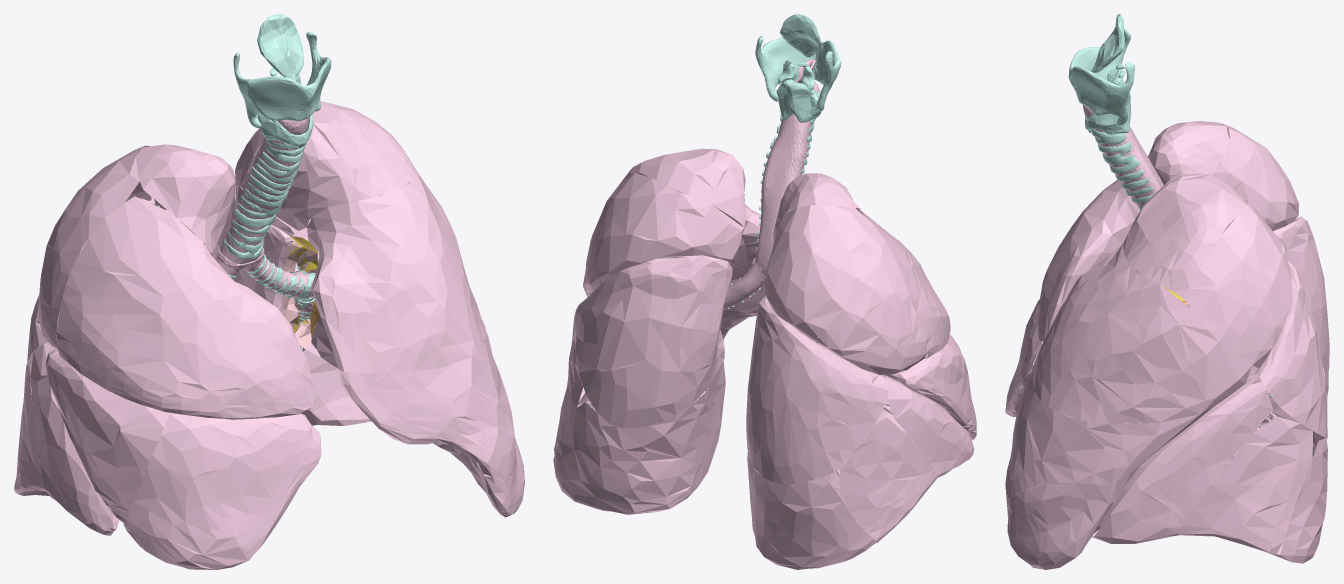
The model's file is organ-lungs.glb.
3 views of the same model, side by side, from view 1: azimuth 30°, elevation 25°; view 2: azimuth 150°, elevation 25°; view 3: azimuth 270°, elevation 25° (orthographic). The views are drawn at different scales.
Visible parts, largest first — view 1: right-anterior-bronchopulmonary-segment, left-anterior-bronchopulmonary-segment, right-medial-bronchopulmonary-segment, left-lingula-superior-bronchopulmonary-segment, left-apical-bronchopulmonary-segment, right-lateral-bronchopulmonary-segment, right-apical-bronchopulmonary-segment, right-posterior-bronchopulmonary-segment, right-anterior-basal-bronchopulmonary-segment, thyroid-cartilage, tracheal-cartilage, left-lingula-inferior-bronchopulmonary-segment (+10 smaller); view 2: left-superior-bronchopulmonary-segment, right-posterior-bronchopulmonary-segment, right-superior-bronchopulmonary-segment, left-posetrior-basal-bronchopulmonary-segment, left-posterior-bronchopulmonary-segment, right-posterior-basal-bronchopulmonary-segment, right-lateral-basal-bronchopulmonary-segment, left-apical-bronchopulmonary-segment, right-anterior-basal-bronchopulmonary-segment, trachea, right-lateral-bronchopulmonary-segment, right-anterior-bronchopulmonary-segment (+8 smaller); view 3: left-anterior-bronchopulmonary-segment, left-posterior-bronchopulmonary-segment, left-anterior-basal-bronchopulmonary-segment, left-lingula-superior-bronchopulmonary-segment, left-lateral-basal-bronchopulmonary-segment, left-apical-bronchopulmonary-segment, left-lingula-inferior-bronchopulmonary-segment, left-superior-bronchopulmonary-segment, right-anterior-bronchopulmonary-segment, right-posterior-bronchopulmonary-segment, left-posetrior-basal-bronchopulmonary-segment, right-apical-bronchopulmonary-segment (+8 smaller).
Part boxes in pixels (x1,y1,x2,y2): right-anterior-bronchopulmonary-segment: [56, 196, 315, 419]; left-anterior-bronchopulmonary-segment: [307, 173, 486, 372]; right-medial-bronchopulmonary-segment: [123, 412, 321, 569]; left-lingula-superior-bronchopulmonary-segment: [340, 331, 507, 476]; left-apical-bronchopulmonary-segment: [240, 101, 417, 230]; right-lateral-bronchopulmonary-segment: [45, 349, 169, 523]; right-apical-bronchopulmonary-segment: [136, 144, 235, 259]; right-posterior-bronchopulmonary-segment: [38, 145, 205, 351]; right-anterior-basal-bronchopulmonary-segment: [30, 342, 119, 535]; thyroid-cartilage: [233, 32, 331, 128]; tracheal-cartilage: [224, 140, 306, 259]; left-lingula-inferior-bronchopulmonary-segment: [311, 318, 524, 517]; left-superior-bronchopulmonary-segment: [575, 255, 732, 428]; right-posterior-bronchopulmonary-segment: [764, 205, 927, 374]; right-superior-bronchopulmonary-segment: [746, 296, 889, 483]; left-posetrior-basal-bronchopulmonary-segment: [553, 361, 725, 514]; left-posterior-bronchopulmonary-segment: [585, 173, 744, 293]; right-posterior-basal-bronchopulmonary-segment: [747, 451, 876, 569]; right-lateral-basal-bronchopulmonary-segment: [803, 417, 938, 542]; left-apical-bronchopulmonary-segment: [622, 148, 745, 227]; right-anterior-basal-bronchopulmonary-segment: [861, 374, 974, 477]; trachea: [756, 59, 819, 278]; right-lateral-bronchopulmonary-segment: [883, 335, 975, 431]; right-anterior-bronchopulmonary-segment: [860, 211, 950, 358]; left-anterior-bronchopulmonary-segment: [1032, 241, 1252, 423]; left-posterior-bronchopulmonary-segment: [1184, 200, 1292, 368]; left-anterior-basal-bronchopulmonary-segment: [1092, 382, 1272, 543]; left-lingula-superior-bronchopulmonary-segment: [1005, 360, 1259, 499]; left-lateral-basal-bronchopulmonary-segment: [1178, 416, 1312, 554]; left-apical-bronchopulmonary-segment: [1123, 174, 1246, 298]; left-lingula-inferior-bronchopulmonary-segment: [1006, 423, 1132, 569]; left-superior-bronchopulmonary-segment: [1251, 260, 1327, 438]; right-anterior-bronchopulmonary-segment: [1036, 156, 1147, 341]; right-posterior-bronchopulmonary-segment: [1213, 122, 1298, 230]; left-posetrior-basal-bronchopulmonary-segment: [1186, 381, 1327, 563]; right-apical-bronchopulmonary-segment: [1148, 121, 1229, 184].
Bounding box in the file's own units: 0.2594 × 0.3151 × 0.1896.
